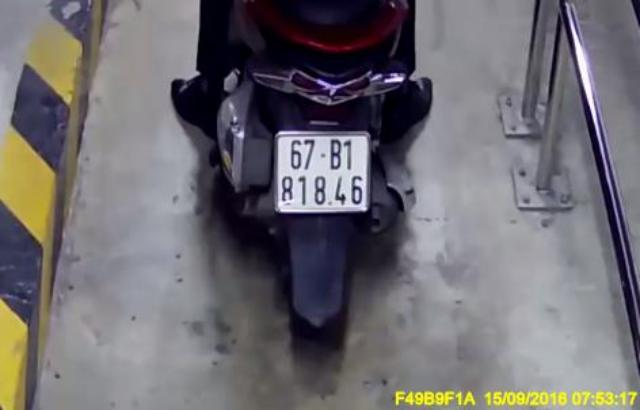plate: (266, 126, 378, 223)
